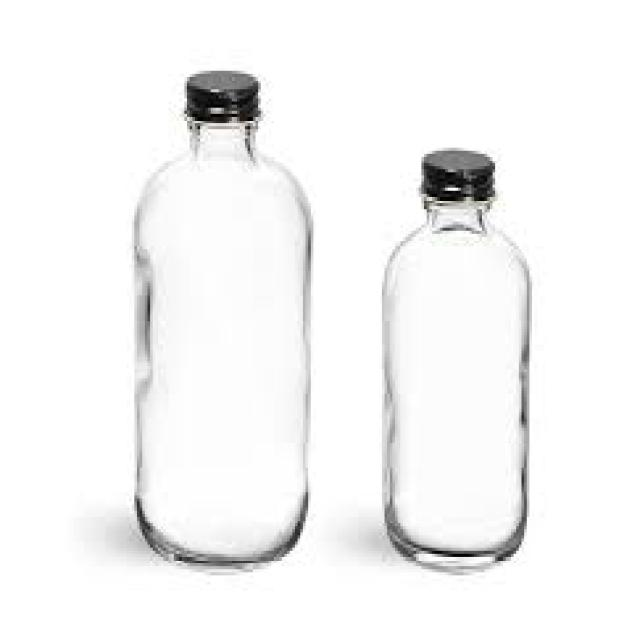glass: (134, 111, 303, 560), (382, 188, 524, 566)
metal: (184, 71, 258, 123), (419, 145, 492, 197)
